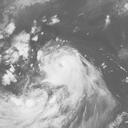cyclone: (40, 46, 83, 88)
